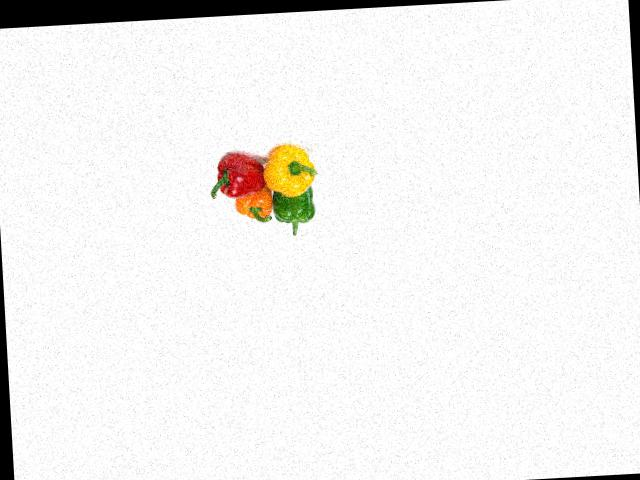bell_pepper: (259, 141, 321, 198)
